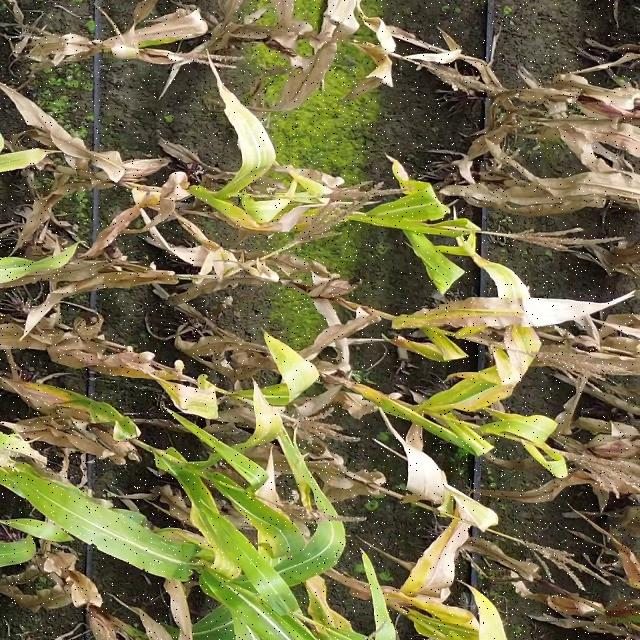northern-leaf-blight: (416, 328, 527, 436), (362, 504, 478, 606), (180, 498, 290, 589)
